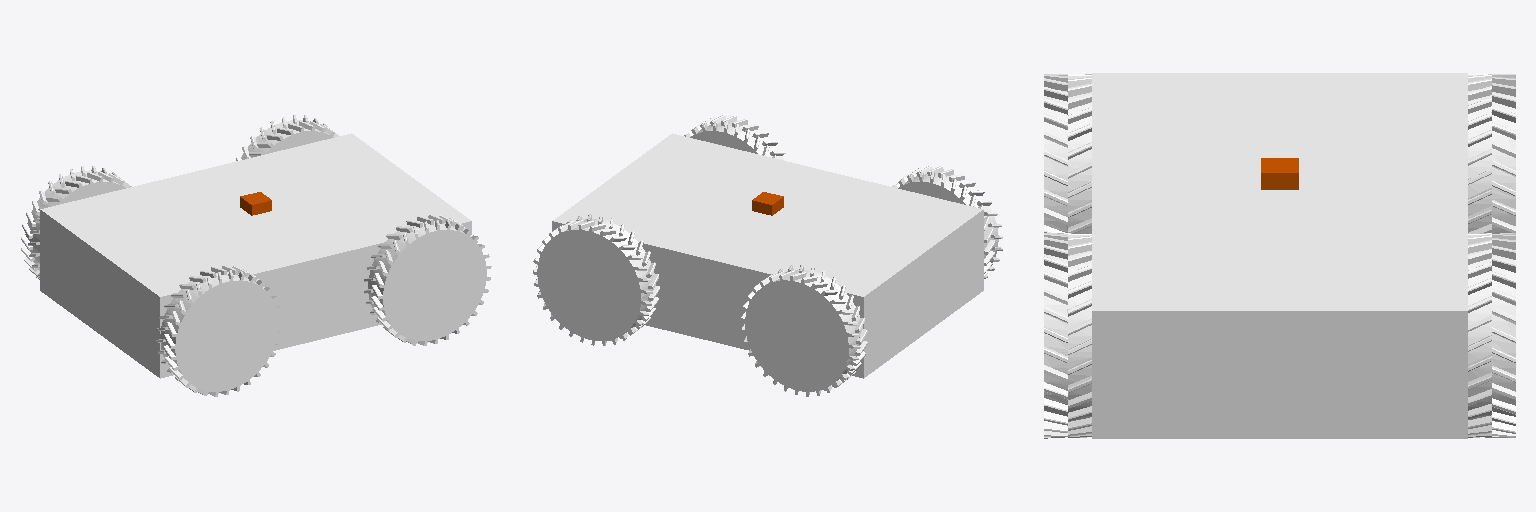
URDF robot description (mobile_robot):
<?xml version="1.0" encoding="utf-8"?>


<!-- =================================================================================== -->
<!-- |    @uthor [author] ( ROM Robotics )                                         | -->
<!-- |    ROS Simulation Online Course                                                 | -->
<!-- =================================================================================== -->

<robot
  name="mobile_robot">
  <link
    name="base_link">
    <inertial>
      <origin
        xyz="0 1.38777878078145E-17 0.051160641551097"
        rpy="0 0 0" />
      <mass
        value="5.66307829279757" />
      <inertia
        ixx="0.0222241816470158"
        ixy="1.71982458995108E-18"
        ixz="4.71600220102887E-19"
        iyy="0.0465826797680732"
        iyz="4.54535736654549E-19"
        izz="0.0633261951991863" />
    </inertial>
    <visual>
      <origin
        xyz="0 0 0"
        rpy="0 0 0" />
      <geometry>
        <mesh
          filename="package://ros_control/meshes/mobile_robot/base_link.STL" />
      </geometry>
      <material
        name="">
        <color
          rgba="1 1 1 0.3" />
      </material>
    </visual>
    <collision>
      <origin
        xyz="0 0 0"
        rpy="0 0 0" />
      <geometry>
        <mesh
          filename="package://ros_control/meshes/mobile_robot/base_link.STL" />
      </geometry>
    </collision>
  </link>
  <link
    name="front_left_wheel">
    <inertial>
      <origin
        xyz="-2.29816166097407E-14 8.32818073997002E-06 -1.99840144432528E-14"
        rpy="0 0 0" />
      <mass
        value="0.258483573203574" />
      <inertia
        ixx="0.000189262516241649"
        ixy="1.19131585881481E-16"
        ixz="-4.74543000838003E-16"
        iyy="0.000350721870329167"
        iyz="2.66946074577865E-16"
        izz="0.000189262516241838" />
    </inertial>
    <visual>
      <origin
        xyz="0 0 0"
        rpy="0 0 0" />
      <geometry>
        <mesh
          filename="package://ros_control/meshes/mobile_robot/front_left_wheel.STL" />
      </geometry>
      <material
        name="">
        <color
          rgba="1 1 1 0.3" />
      </material>
    </visual>
    <collision>
      <origin
        xyz="0 0 0"
        rpy="0 0 0" />
      <geometry>
        <mesh
          filename="package://ros_control/meshes/mobile_robot/front_left_wheel.STL" />
      </geometry>
    </collision>
  </link>
  <joint
    name="front_left_joint"
    type="continuous">
    <origin
      xyz="0.1016 0.1143 0.051160641551097"
      rpy="0 0 0" />
    <parent
      link="base_link" />
    <child
      link="front_left_wheel" />
    <axis
      xyz="0 1 0" />
    <safety_controller
      k_velocity="0" />
  </joint>
  <link
    name="front_right_wheel">
    <inertial>
      <origin
        xyz="1.47659662275146E-14 -8.32818073995267E-06 2.72559752545476E-14"
        rpy="0 0 0" />
      <mass
        value="0.258483573203574" />
      <inertia
        ixx="0.000189262516242037"
        ixy="2.3312284814222E-16"
        ixz="-3.94183401690999E-16"
        iyy="0.000350721870329169"
        iyz="1.76440825004407E-16"
        izz="0.000189262516241465" />
    </inertial>
    <visual>
      <origin
        xyz="0 0 0"
        rpy="0 0 0" />
      <geometry>
        <mesh
          filename="package://ros_control/meshes/mobile_robot/front_right_wheel.STL" />
      </geometry>
      <material
        name="">
        <color
          rgba="1 1 1 0.3" />
      </material>
    </visual>
    <collision>
      <origin
        xyz="0 0 0"
        rpy="0 0 0" />
      <geometry>
        <mesh
          filename="package://ros_control/meshes/mobile_robot/front_right_wheel.STL" />
      </geometry>
    </collision>
  </link>
  <joint
    name="front_right_joint"
    type="continuous">
    <origin
      xyz="0.1016 -0.1143 0.051160641551097"
      rpy="0 0 0" />
    <parent
      link="base_link" />
    <child
      link="front_right_wheel" />
    <axis
      xyz="0 1 0" />
    <safety_controller
      k_velocity="0" />
  </joint>
  <link
    name="back_right_wheel">
    <inertial>
      <origin
        xyz="2.02060590481778E-14 -8.32818074003594E-06 -2.16493489801906E-14"
        rpy="0 0 0" />
      <mass
        value="0.258483573203574" />
      <inertia
        ixx="0.000189262516241685"
        ixy="1.02584447394406E-16"
        ixz="4.9066877944318E-16"
        iyy="0.000350721870329138"
        iyz="-2.76945192048971E-16"
        izz="0.000189262516241772" />
    </inertial>
    <visual>
      <origin
        xyz="0 0 0"
        rpy="0 0 0" />
      <geometry>
        <mesh
          filename="package://ros_control/meshes/mobile_robot/back_right_wheel.STL" />
      </geometry>
      <material
        name="">
        <color
          rgba="1 1 1 0.3" />
      </material>
    </visual>
    <collision>
      <origin
        xyz="0 0 0"
        rpy="0 0 0" />
      <geometry>
        <mesh
          filename="package://ros_control/meshes/mobile_robot/back_right_wheel.STL" />
      </geometry>
    </collision>
  </link>
  <joint
    name="back_right_joint"
    type="continuous">
    <origin
      xyz="-0.1016 -0.1143 0.051160641551097"
      rpy="0 0 0" />
    <parent
      link="base_link" />
    <child
      link="back_right_wheel" />
    <axis
      xyz="0 1 0" />
    <safety_controller
      k_velocity="0.2" />
  </joint>
  <link
    name="back_left_wheel">
    <inertial>
      <origin
        xyz="-1.50990331349021E-14 8.32818074007931E-06 -2.63122856836162E-14"
        rpy="0 0 0" />
      <mass
        value="0.258483573203575" />
      <inertia
        ixx="0.000189262516241906"
        ixy="4.1157050314185E-17"
        ixz="-4.70201546785752E-16"
        iyy="0.000350721870329123"
        iyz="2.94676610981564E-16"
        izz="0.00018926251624155" />
    </inertial>
    <visual>
      <origin
        xyz="0 0 0"
        rpy="0 0 0" />
      <geometry>
        <mesh
          filename="package://ros_control/meshes/mobile_robot/back_left_wheel.STL" />
      </geometry>
      <material
        name="">
        <color
          rgba="1 1 1 0.3" />
      </material>
    </visual>
    <collision>
      <origin
        xyz="0 0 0"
        rpy="0 0 0" />
      <geometry>
        <mesh
          filename="package://ros_control/meshes/mobile_robot/back_left_wheel.STL" />
      </geometry>
    </collision>
  </link>
  <joint
    name="back_left_joint"
    type="continuous">
    <origin
      xyz="-0.1016 0.1143 0.051160641551097"
      rpy="0 0 0" />
    <parent
      link="base_link" />
    <child
      link="back_left_wheel" />
    <axis
      xyz="0 1 0" />
    <safety_controller
      k_velocity="0" />
  </joint>

   <transmission name="front_right_wheel">
    <type>transmission_interface/SimpleTransmission</type>
      <joint name="front_right_joint">
    
      <hardwareInterface>hardware_interface/VelocityJointInterface</hardwareInterface>
    </joint>
    <actuator name="front_right_motor">
      
      <hardwareInterface>hardware_interface/VelocityJointInterface</hardwareInterface>
      <mechanicalReduction>1</mechanicalReduction>
    </actuator>
  </transmission>

    <transmission name="front_left_wheel">
    <type>transmission_interface/SimpleTransmission</type>
      <joint name="front_left_joint">

      <hardwareInterface>hardware_interface/VelocityJointInterface</hardwareInterface>
    </joint>
    <actuator name="front_left_motor">

      <hardwareInterface>hardware_interface/VelocityJointInterface</hardwareInterface>
      <mechanicalReduction>1</mechanicalReduction>
    </actuator>
  </transmission>

     <transmission name="back_left_wheel">
  <type>transmission_interface/SimpleTransmission</type>
      <joint name="back_left_joint">

      <hardwareInterface>hardware_interface/VelocityJointInterface</hardwareInterface>
    </joint>
    <actuator name="back_left_motor">
  
      <hardwareInterface>hardware_interface/VelocityJointInterface</hardwareInterface>
      <mechanicalReduction>1</mechanicalReduction>
    </actuator>
  </transmission>

  <transmission name="back_right_wheel">
    <type>transmission_interface/SimpleTransmission</type>
      <joint name="back_right_joint">
 
      <hardwareInterface>hardware_interface/VelocityJointInterface</hardwareInterface>
    </joint>
    <actuator name="back_right_motor">
      
      <hardwareInterface>hardware_interface/VelocityJointInterface</hardwareInterface>
      <mechanicalReduction>1</mechanicalReduction>
    </actuator>
  </transmission>

  <gazebo>
  <plugin name="gazebo_ros_control" filename="libgazebo_ros_control.so">
    
  </plugin>
</gazebo> 

  <link name="imu_link">
    <visual>
      <origin rpy="0 0 0" xyz="0 0 0"/>
      <geometry>
        <box size="0.02 0.02 0.01"/>
      </geometry>
    </visual>

    <collision>
      <origin rpy="0 0 0" xyz="0 0 0"/>
      <geometry>
        <box size="0.02 0.02 0.01"/>
      </geometry>
    </collision>
    <inertial>
      <origin
        xyz="-1.1631E-07 4.6695E-06 0.49998"
        rpy="0 0 0" />
      <mass
        value="0.28" />
      <inertia
        ixx="4.1595"
        ixy="-5.4696E-07"
        ixz="2.4978E-06"
        iyy="4.1595"
        iyz="-0.00010027"
        izz="0.31998" />
    </inertial>   
  </link>
  
  <joint name="link_one_to_link_two" type="fixed">
    <origin rpy="0 0 0" xyz = "0 0 0.10"/>
    <parent link="base_link"/>
    <child link="imu_link"/>
    <axis xyz="0 0 0"/>
  </joint>

<gazebo>
  <plugin name="imu_plugin" filename="libgazebo_ros_imu.so">
    <alwaysOn>true</alwaysOn>
    <updateRate>100.0</updateRate> 
    <bodyName>imu_link</bodyName>
    <topicName>imu_data</topicName>
    <gaussianNoise>1e-06</gaussianNoise>
   </plugin>
</gazebo>   

 
<!--gazebo>
  <plugin name="skid_steer_drive_controller" filename="libgazebo_ros_skid_steer_drive.so">
    <updateRate>100.0</updateRate>
    <robotNamespace>/</robotNamespace>
    <leftFrontJoint>front_left_joint</leftFrontJoint>
    <rightFrontJoint>front_right_joint</rightFrontJoint>
    <leftRearJoint>back_left_joint</leftRearJoint>
    <rightRearJoint>back_right_joint</rightRearJoint>
    <wheelSeparation>0.2032</wheelSeparation>
    <wheelDiameter>0.1016</wheelDiameter>
    <robotBaseFrame>base_link</robotBaseFrame>
    <torque>100</torque>
    <topicName>cmd_vel</topicName>
    <broadcastTF>false</broadcastTF>
  </plugin>
</gazebo-->

</robot>

--- Facts derived from the render (not from the file) ---
Views: 3 orthographic renders of the robot side by side, from view 1: azimuth 30°, elevation 25°; view 2: azimuth 150°, elevation 25°; view 3: azimuth 270°, elevation 25°.
Model mobile_robot with 6 links and 5 joints (4 continuous, 1 fixed), rooted at base_link, posed all joints at 0.
Visible links, largest first — view 1: base_link, front_right_wheel, back_right_wheel, back_left_wheel, front_left_wheel, imu_link; view 2: base_link, back_left_wheel, front_left_wheel, back_right_wheel, front_right_wheel, imu_link; view 3: base_link, front_left_wheel, front_right_wheel, back_left_wheel, back_right_wheel, imu_link.
Link boxes in pixels (x1,y1,x2,y2): base_link: (40,133,471,378); front_right_wheel: (364,214,491,345); back_right_wheel: (156,265,283,396); back_left_wheel: (21,166,131,279); front_left_wheel: (236,115,339,160); imu_link: (240,192,271,215); base_link: (552,133,983,378); back_left_wheel: (740,265,867,396); front_left_wheel: (533,214,659,345); back_right_wheel: (892,166,1002,278); front_right_wheel: (684,115,785,160); imu_link: (752,192,783,215); base_link: (1092,73,1467,438); front_left_wheel: (1468,233,1515,437); front_right_wheel: (1044,233,1091,438); back_left_wheel: (1468,74,1515,233); back_right_wheel: (1044,74,1091,233); imu_link: (1261,158,1298,189).
Size in the robot's own frame: 0.3143 by 0.254 by 0.1111 metres.
5 mesh visuals loaded from 5 distinct referenced files (5 binary STL).
